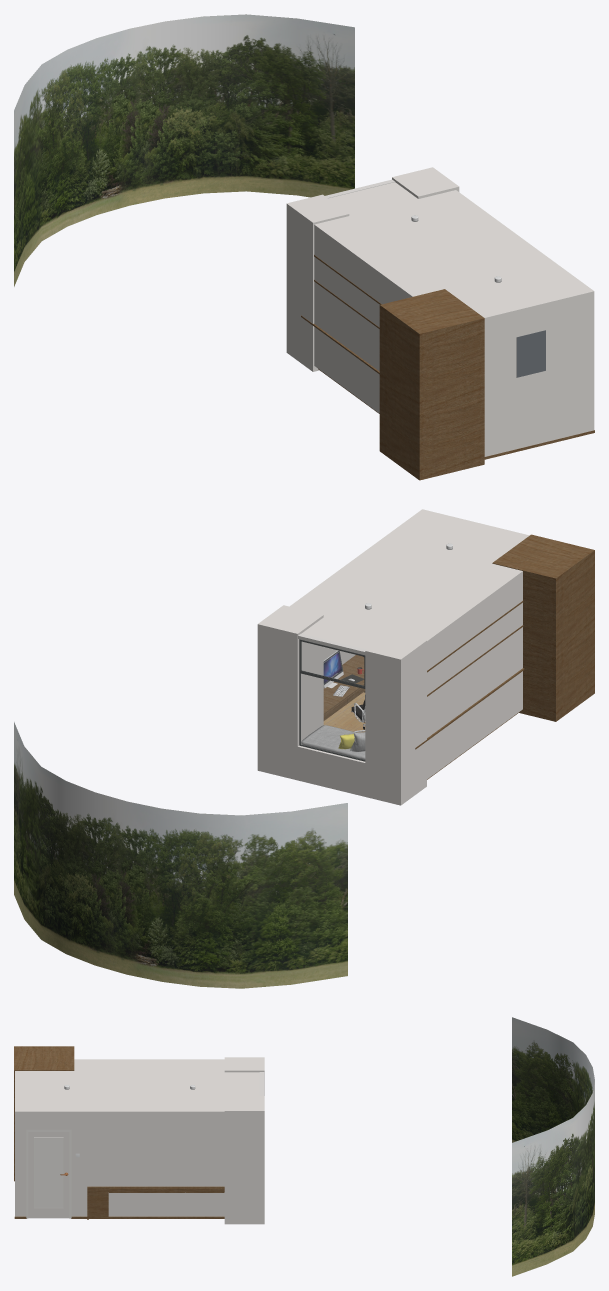
Rendered from office_original_textures_complete.glb.
3 views of the same model, one above another, from view 1: azimuth 30°, elevation 25°; view 2: azimuth 150°, elevation 25°; view 3: azimuth 270°, elevation 25° (orthographic). The views are drawn at different scales.
Parts seen in each view (by area): view 1: background, room base, cardboard, room 1, Cube.030; view 2: background, room base, room 1, cardboard, Window, CUSHION, Cube.001; view 3: room base, background, room 1, Door, cardboard, DoorFrame, Cube.004, Cube.001, Cube.032.
Part boxes in pixels (x1,y1,x2,y2): background: (14,14,354,286); room base: (314,182,594,456); cardboard: (379,289,484,480); room 1: (286,167,459,371); Cube.030: (516,330,545,377); background: (14,722,347,988); room base: (289,509,529,779); room 1: (257,605,426,805); cardboard: (492,534,594,721); Window: (298,633,366,761); CUSHION: (301,725,365,759); Cube.001: (323,655,364,714); room base: (15,1059,259,1218); background: (512,1017,594,1276); room 1: (224,1057,264,1224); Door: (34,1137,63,1208); cardboard: (14,1046,74,1181); DoorFrame: (26,1129,71,1218); Cube.004: (88,1188,224,1218); Cube.001: (87,1186,224,1219); Cube.032: (71,1216,223,1218).
Bounding box in the file's own units: 6.57 × 3.3 × 12.82.
80 materials, 40 textured.
